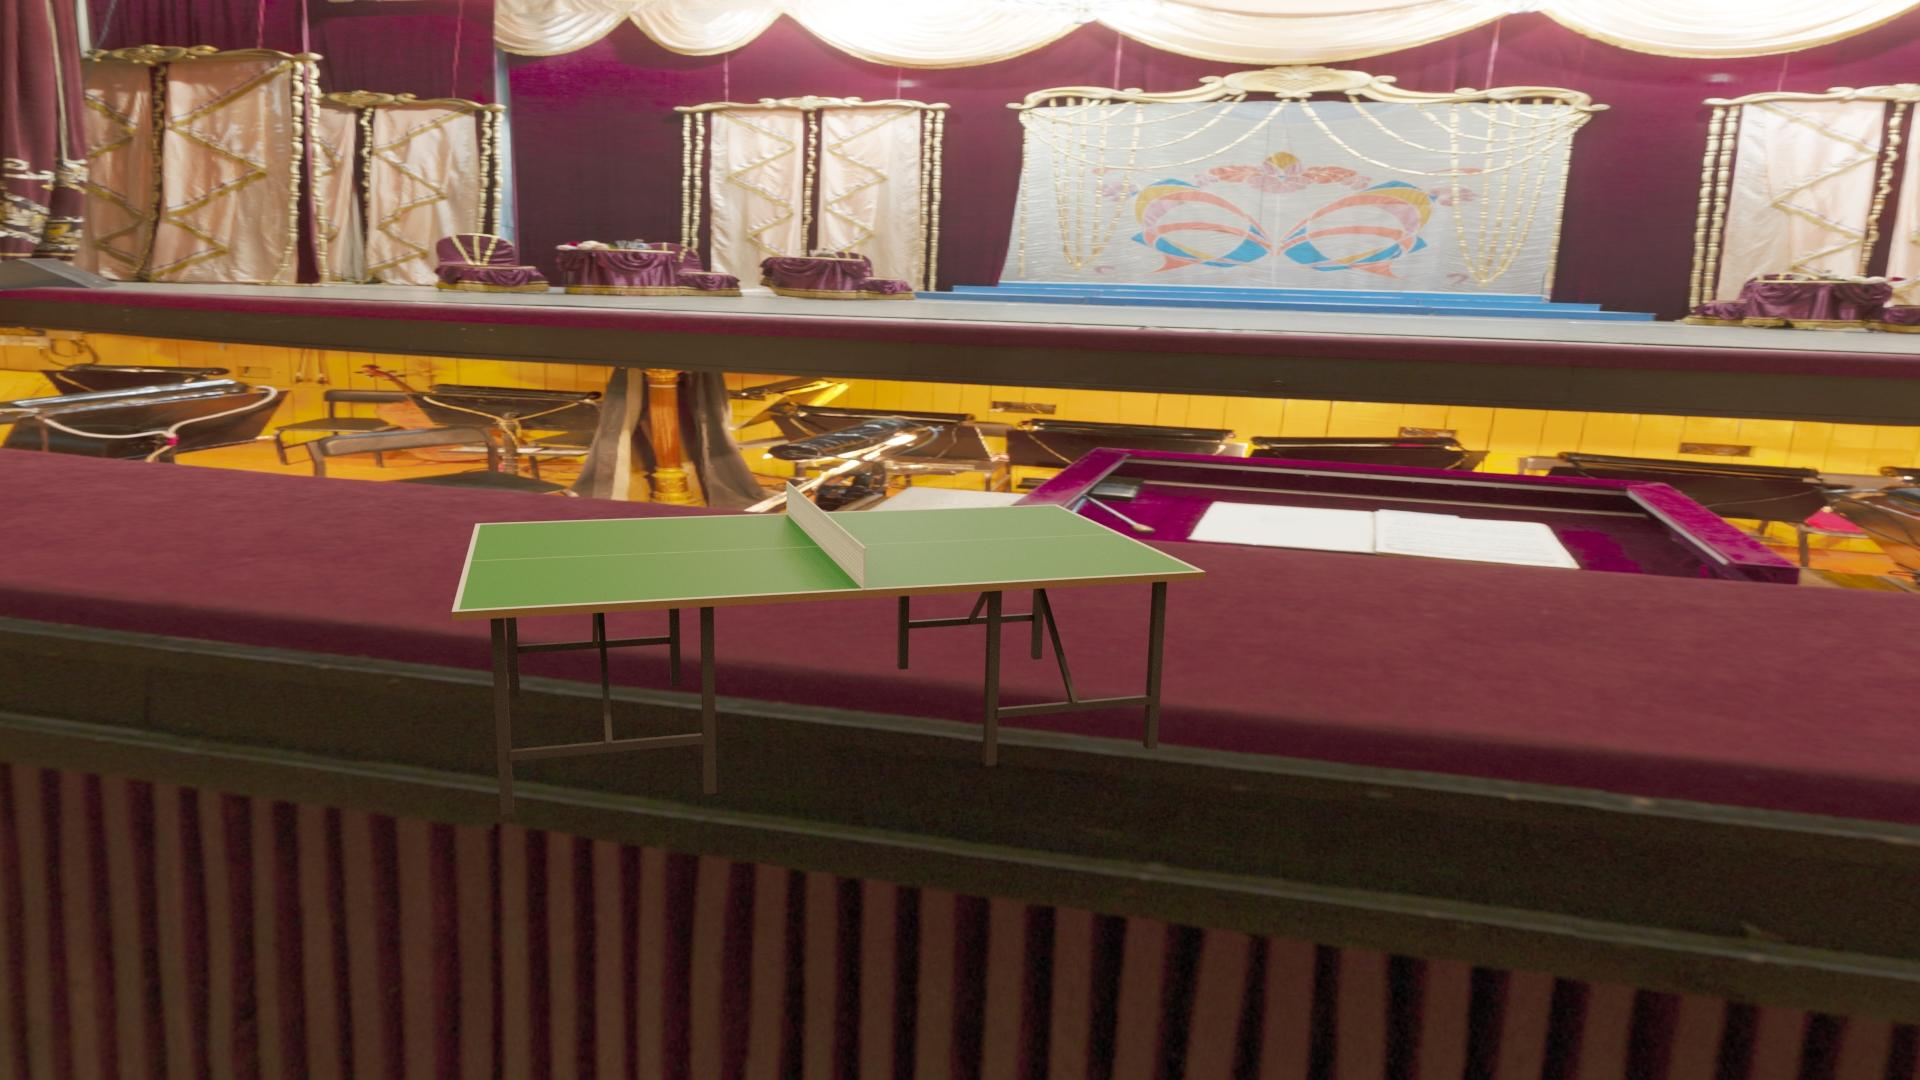table: (459, 505, 1199, 609)
